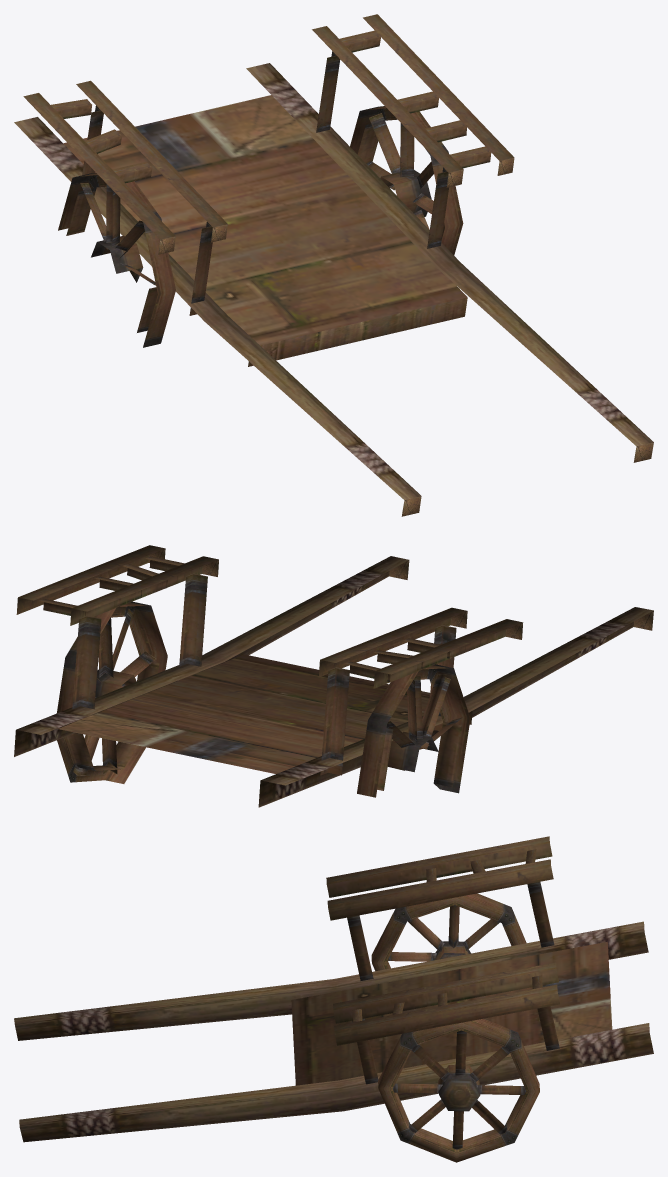
Rendered from fb_chun_che01_55_18_0094out.fbx.
3 renders of one model, top to bottom at view 1: azimuth 30°, elevation 25°; view 2: azimuth 150°, elevation 25°; view 3: azimuth 270°, elevation 25°, orthographic. The views are drawn at different scales.
Parts seen in each view (by area): view 1: fb_chun_che01; view 2: fb_chun_che01; view 3: fb_chun_che01.
Part boxes in pixels (x1,y1,x2,y2): fb_chun_che01: (14, 14, 653, 516); fb_chun_che01: (14, 545, 653, 807); fb_chun_che01: (14, 836, 653, 1162).
Bounding box in the file's own units: 2.13 × 1.26 × 3.86.
